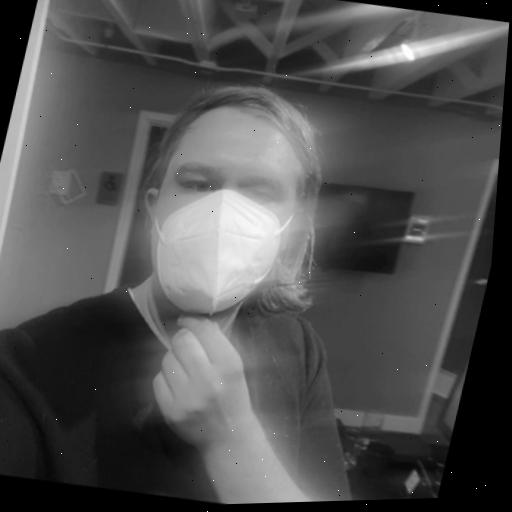mask: (94, 65, 345, 346)
